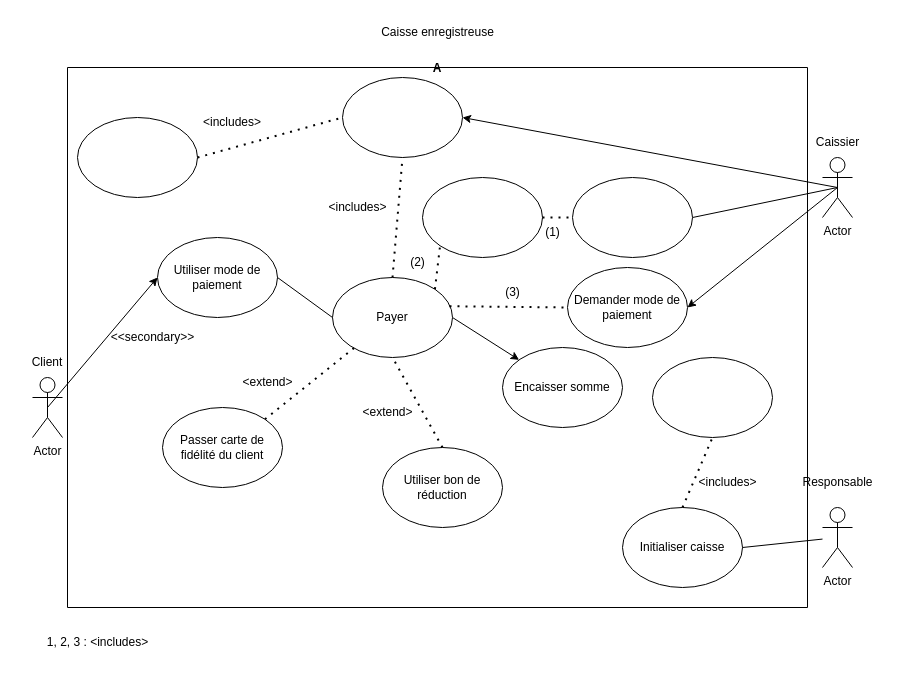
The diagram is 899 pixels wide and 674 high, and some of its shapes have lost their labels. Here are the shapes that lost their labels. From the top down, the centre of each, then its label:
At (402,117): "Ticket de caisse".
At (137,157): "Fin de vente".
At (482,217): "Afficher total achats".
At (632,217): "Enregistrer numéro d'identification des articles".
At (712,397): "Vérifier état caisse".
